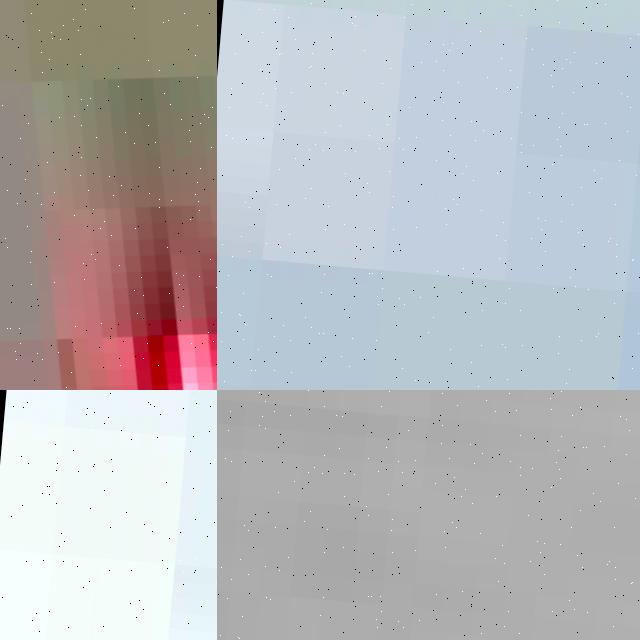drone: (0, 0, 217, 390)
